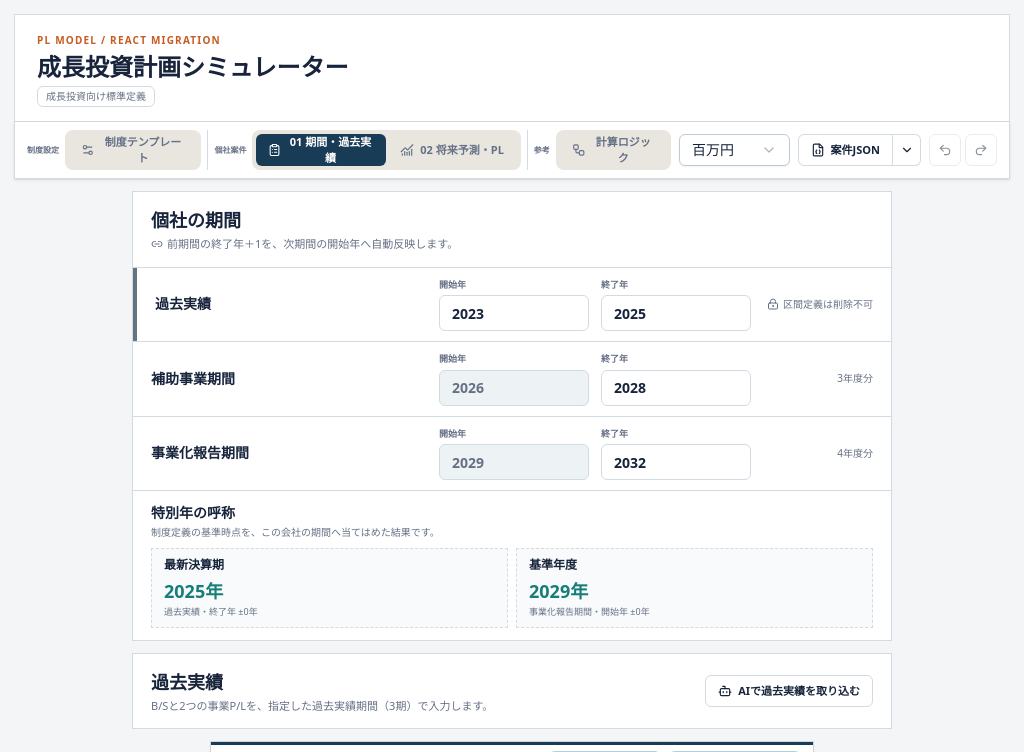
案件JSONを読み込む前後の過去実績 › 補助事業の過去実績がないサンプルを読み込める
Click the button named "案件JSONメニュー": (907, 150) [893,134,921,166]
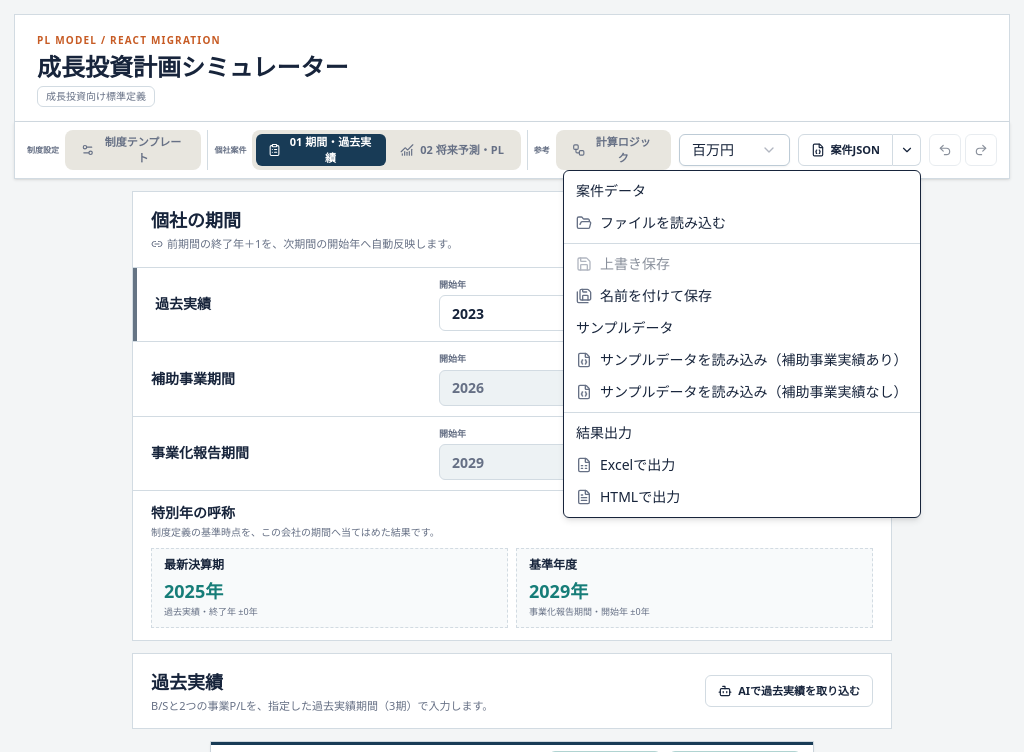
Click the menu item "サンプルデータを読み込み（補助事業実績なし）": (742, 392) [576,382,908,401]
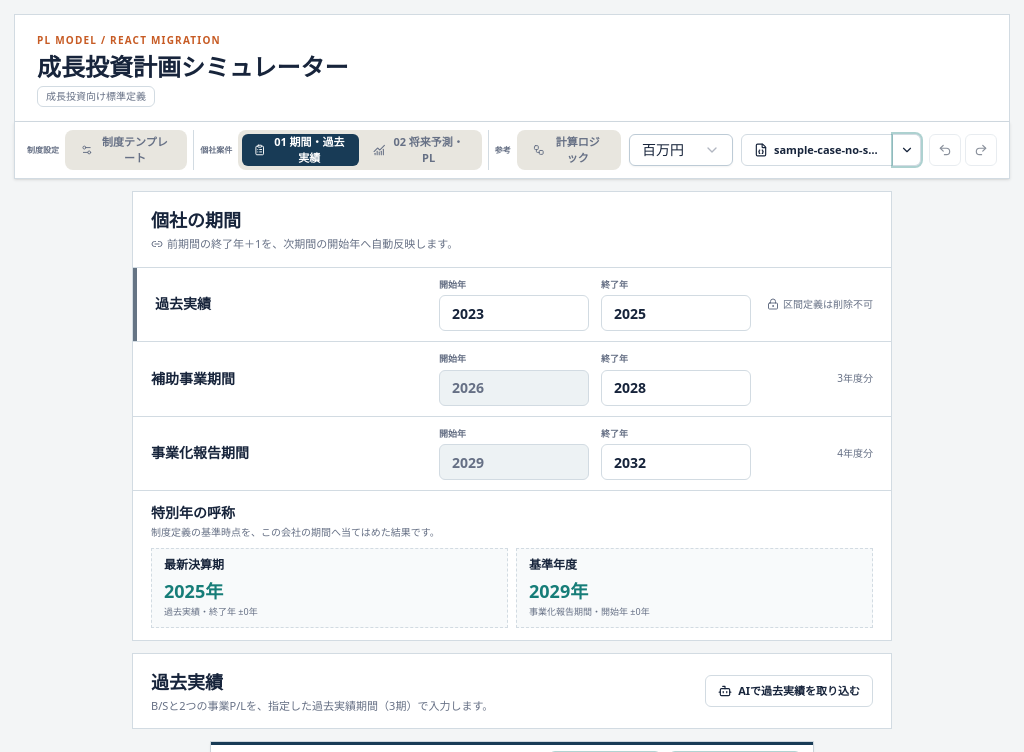
Check: the element named "現在の案件ファイル" reads "sample-case-no-subsidy-history.json", box [774,142,972,157]
